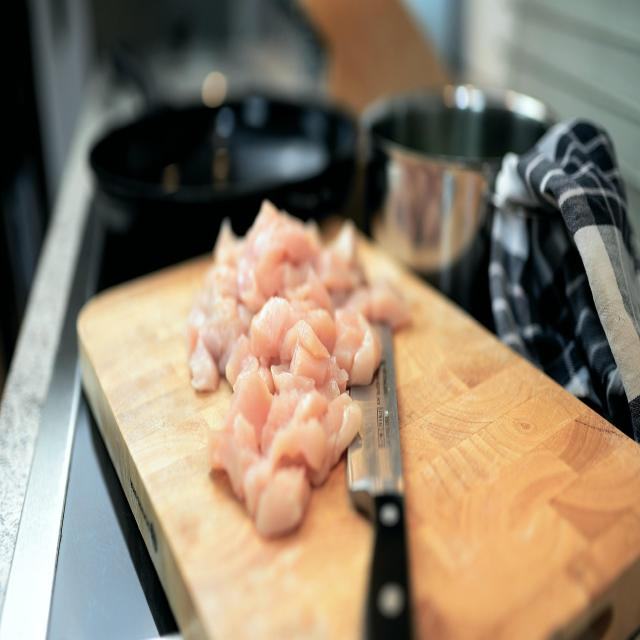Knife: (348, 327, 412, 639)
